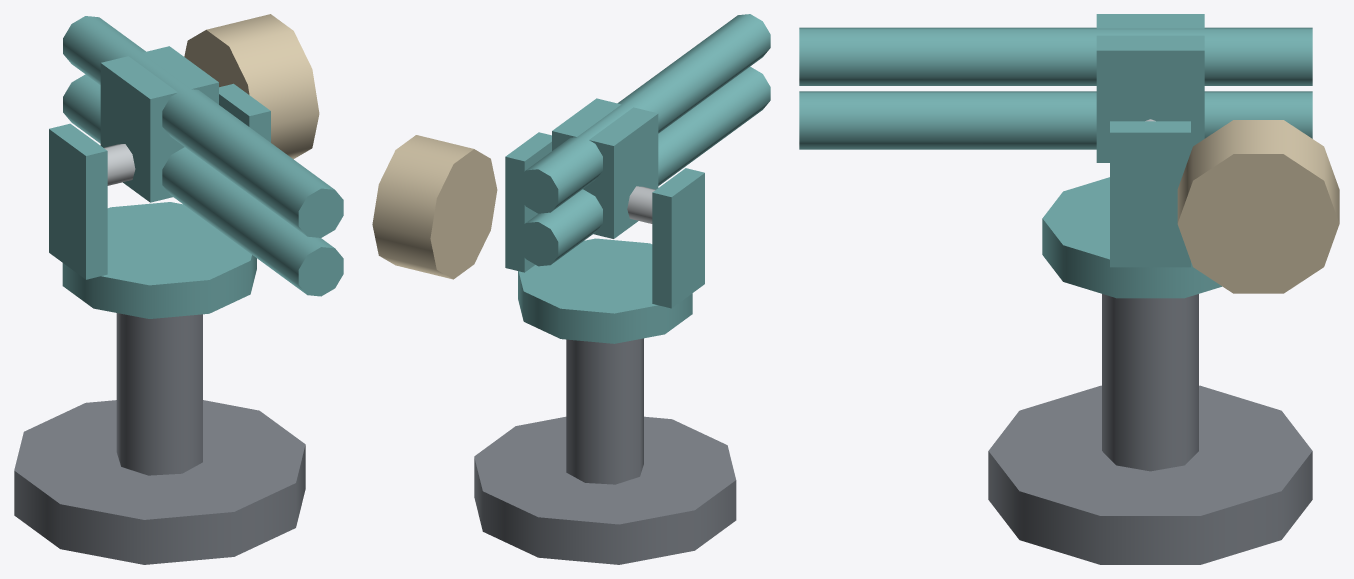
Rendered from launcher.glb.
3 renders of one model, left to right at view 1: azimuth 30°, elevation 25°; view 2: azimuth 150°, elevation 25°; view 3: azimuth 270°, elevation 25°, orthographic. The views are drawn at different scales.
Parts seen in each view (by area): view 1: launcher, pitch, yaw; view 2: launcher, yaw, pitch; view 3: pitch, launcher, yaw.
Part boxes in pixels (x1=…): launcher: x1=14, y1=313, x2=305, y2=564; pitch: x1=63, y1=16, x2=343, y2=296; yaw: x1=49, y1=14, x2=319, y2=318; launcher: x1=474, y1=338, x2=736, y2=564; yaw: x1=372, y1=132, x2=704, y2=343; pitch: x1=518, y1=14, x2=770, y2=266; pitch: x1=799, y1=14, x2=1312, y2=162; launcher: x1=988, y1=294, x2=1312, y2=564; yaw: x1=1042, y1=120, x2=1339, y2=298.
Bounding box in the file's own units: 1.37 × 1.92 × 2.
